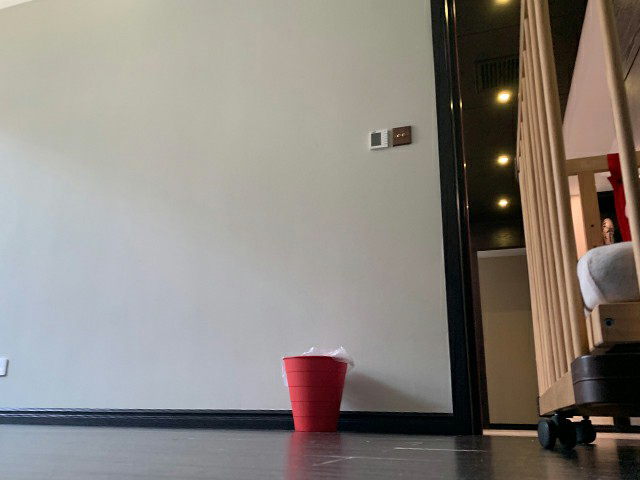trashcan: (282, 355, 349, 432)
